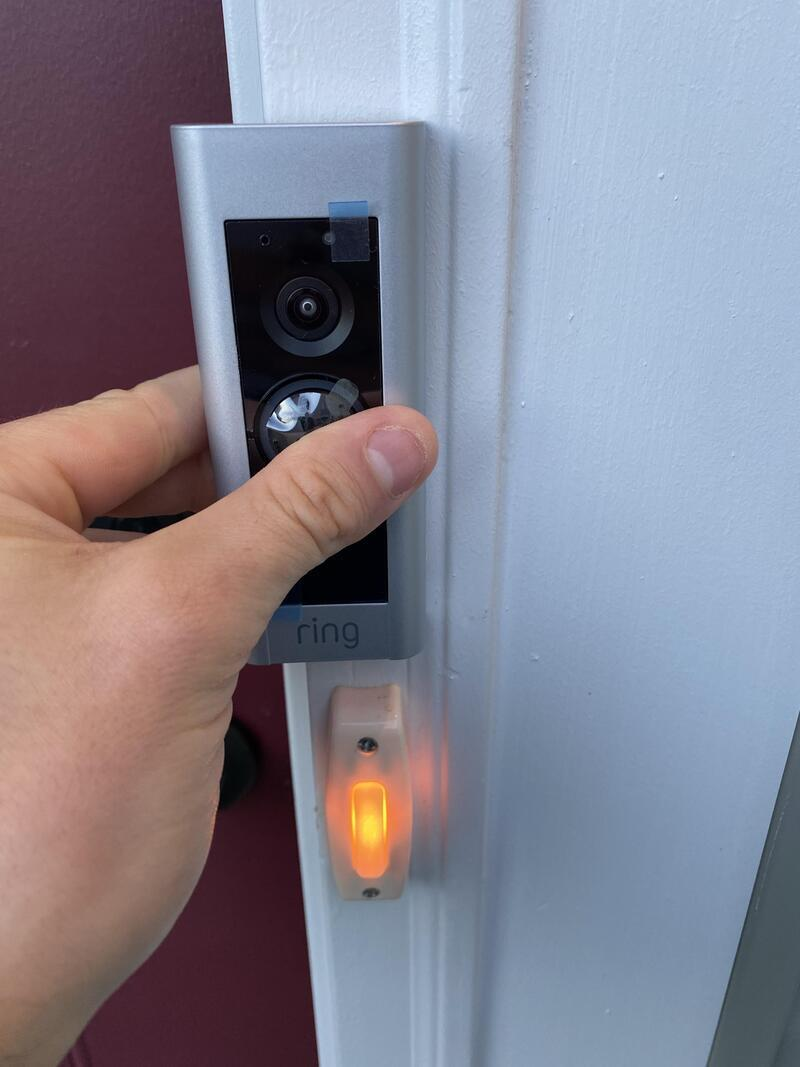doorbell: (152, 99, 446, 676)
